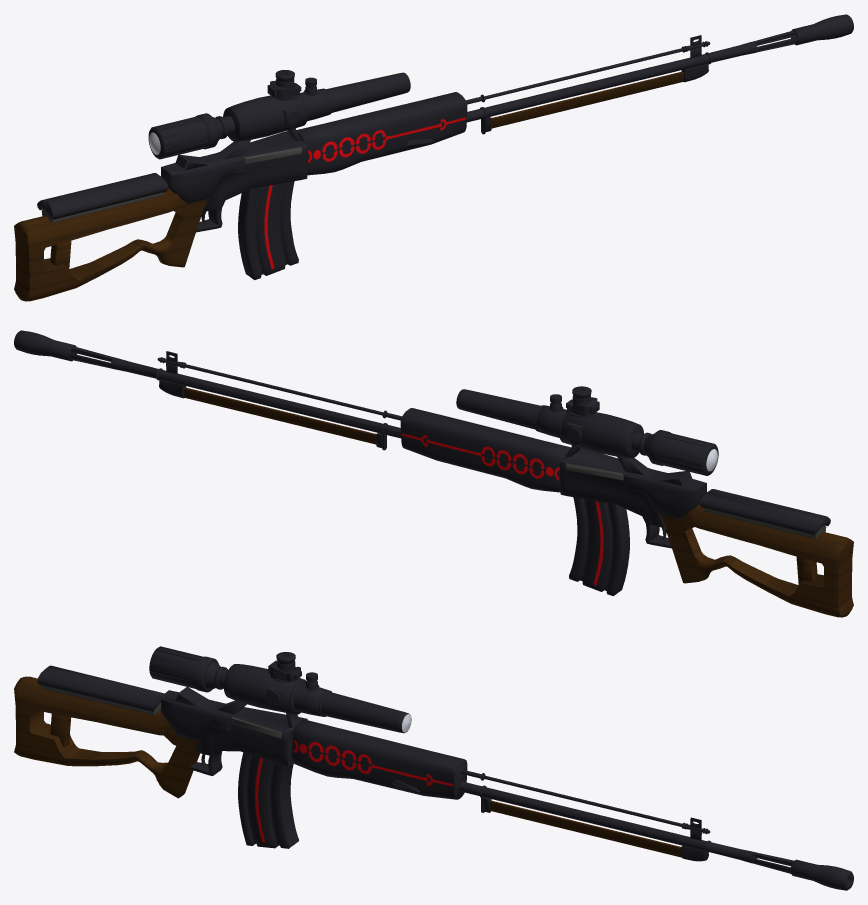
The model's file is Horta Rider Sniper.fbx.
3 views of the same model, one above another, from view 1: azimuth 30°, elevation 25°; view 2: azimuth 150°, elevation 25°; view 3: azimuth 330°, elevation 25° (orthographic).
Visible parts, largest first — view 1: Body; view 2: Body; view 3: Body.
Boxes of the visible parts, x1,y1,x2,y2 form: Body: [14, 14, 853, 301]; Body: [14, 330, 853, 617]; Body: [14, 646, 853, 890].
Size of the model in its own units: 130 by 29.1 by 5.84.
